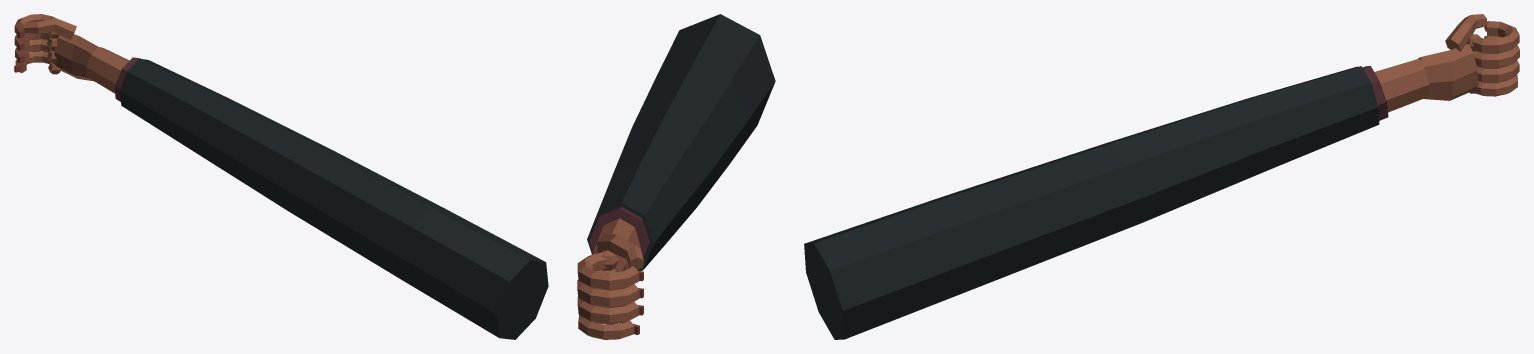
Rendered from pumn_jucator.glb.
3 views of the same model, side by side, from view 1: azimuth 30°, elevation 25°; view 2: azimuth 150°, elevation 25°; view 3: azimuth 270°, elevation 25° (orthographic). The views are drawn at different scales.
Parts seen in each view (by area): view 1: Pumn; view 2: Pumn; view 3: Pumn.
Boxes of the visible parts, <box> form: Pumn: <box>14,14,548,339</box>; Pumn: <box>577,14,775,339</box>; Pumn: <box>804,14,1519,339</box>.
Size of the model in its own units: 0.4149 by 0.2675 by 0.8391.
